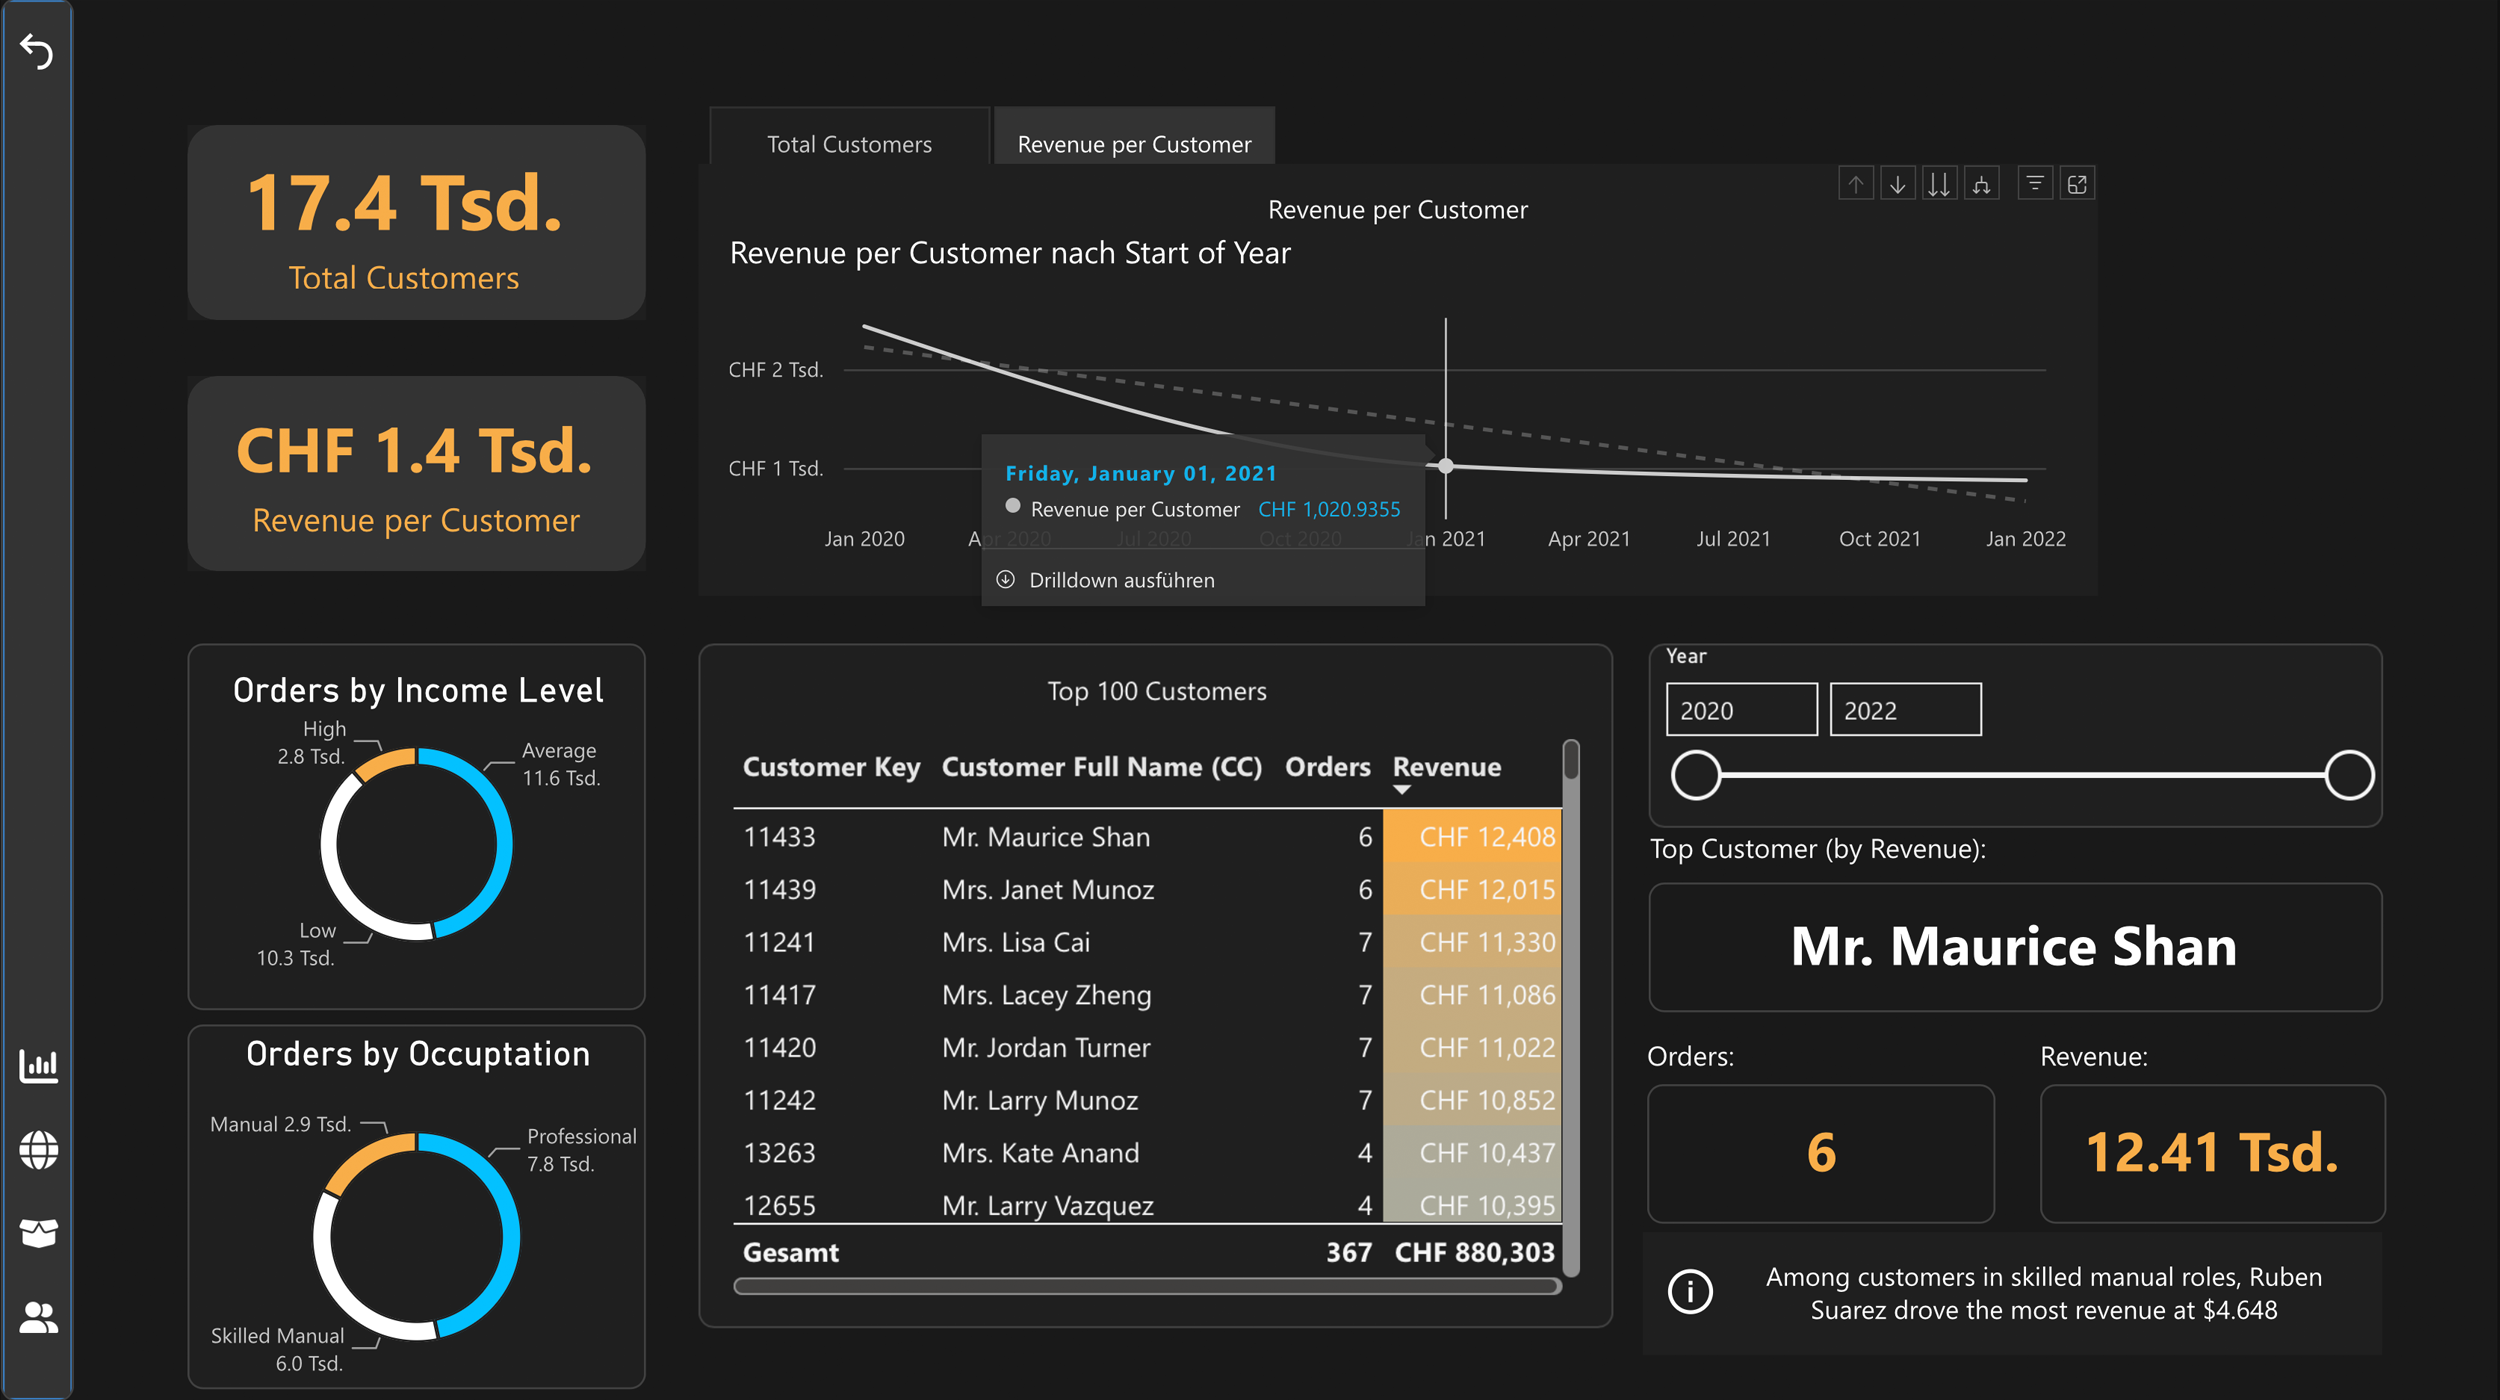

What the dashboard file says about the page in this screenshot:
{"tool":"powerbi","page":{"name":"Customer Detail","canvas":[1280,720],"ordinal":3},"visuals":[{"type":"shape","title":"1. Card","box":[95.7,64.9,235,100],"z":0},{"type":"actionButton","box":[4.7,527.8,29.6,39.8],"z":0,"group":"g1"},{"type":"shape","title":"2. Card","box":[95.7,193.6,235,100],"z":1000},{"type":"actionButton","box":[4.7,570.6,29.6,39.8],"z":1000,"group":"g1"},{"type":"card","fields":{"Values":["Measure Table.Total Customers"]},"box":[106,65,204,100],"z":2000},{"type":"actionButton","box":[4.7,613.5,29.6,39.8],"z":2000,"group":"g1"},{"type":"card","fields":{"Values":["Measure Table.Average Revenue per Customer"]},"box":[95.7,179.7,235,126.6],"z":3000},{"type":"actionButton","box":[4.7,656.3,29.6,39.8],"z":3000,"group":"g1"},{"type":"lineChart","fields":{"Category":["Calendar Lookup.Date Hierarchy.Start of Year","Calendar Lookup.Date Hierarchy.Start of Month","Calendar Lookup.Date Hierarchy.Start of Week","Calendar Lookup.Date Hierarchy.Date"],"Y":["Measure Table.Average Revenue per Customer"]},"box":[357.5,85,717.5,221.2],"z":4000},{"type":"donutChart","title":"Orders by Income Level","fields":{"Category":["Customer Lookup.Income Level"],"Y":["Measure Table.Total Orders"]},"box":[95.7,330.8,235,188.2],"z":5000},{"type":"donutChart","title":"Orders by Occuptation","fields":{"Category":["Customer Lookup.Occupation"],"Y":["Measure Table.Total Orders"]},"box":[95.7,526.4,235,187.2],"z":6000},{"type":"tableEx","title":"Top 100 Customers","fields":{"Values":["Customer Lookup.CustomerKey","Customer Lookup.Customer Full Name (CC)","Measure Table.Total Orders","Measure Table.Total Revenue"]},"box":[358,331,469,351],"z":7000},{"type":"card","fields":{"Values":["Customer Lookup.Full Name (Customer Detail)"]},"box":[845,453.8,376.6,66.6],"z":8000},{"type":"card","fields":{"Values":["Measure Table.Total Orders (Customer Detail)"]},"box":[844.1,557.2,178.8,71.2],"z":9000},{"type":"card","fields":{"Values":["Measure Table.Total Revenue (Customer Detail)"]},"box":[1045.3,557.2,177.5,71.2],"z":10000},{"type":"textbox","box":[844.1,532,178.8,33.8],"z":11000},{"type":"textbox","box":[1045.3,532,178.8,33.8],"z":12000},{"type":"textbox","box":[846,426,178.8,33.8],"z":13000},{"type":"slicer","fields":{"Values":["Calendar Lookup.Year"]},"box":[845.1,331,376.5,94.4],"z":14000},{"type":"actionButton","box":[842,633,379,63],"z":15000},{"type":"shape","title":"Left Nav Background","box":[0,0,37.7,719.7],"z":16000},{"type":"actionButton","box":[2.3,12.5,31.8,29.6],"z":18000},{"type":"slicer","fields":{"Values":["Customer Metric Selection.Customer Metric Selection"]},"box":[342.5,53.8,330,41.2],"z":19001},{"type":"group","id":"g1","title":"Nav Buttons","box":[4.7,527.8,29.6,168.3],"z":19002}]}

Visuals, with their boxes on the page's 1280x720 design canvas (x1, y1, x2, y2). These are canvas units, not pixel positions in the 2500x1400 screenshot, which may show the page scaled, cropped or inside an application window:
"1. Card" shape: {"left": 96, "top": 65, "right": 331, "bottom": 165}
actionButton: {"left": 5, "top": 528, "right": 34, "bottom": 568}
"2. Card" shape: {"left": 96, "top": 194, "right": 331, "bottom": 294}
actionButton: {"left": 5, "top": 571, "right": 34, "bottom": 610}
card - Measure Table.Total Customers: {"left": 106, "top": 65, "right": 310, "bottom": 165}
actionButton: {"left": 5, "top": 614, "right": 34, "bottom": 653}
card - Measure Table.Average Revenue per Customer: {"left": 96, "top": 180, "right": 331, "bottom": 306}
actionButton: {"left": 5, "top": 656, "right": 34, "bottom": 696}
lineChart - Calendar Lookup.Date Hierarchy.Start of Year x Calendar Lookup.Date Hierarchy.Start of Month: {"left": 358, "top": 85, "right": 1075, "bottom": 306}
"Orders by Income Level" donutChart: {"left": 96, "top": 331, "right": 331, "bottom": 519}
"Orders by Occuptation" donutChart: {"left": 96, "top": 526, "right": 331, "bottom": 714}
"Top 100 Customers" tableEx: {"left": 358, "top": 331, "right": 827, "bottom": 682}
card - Customer Lookup.Full Name (Customer Detail): {"left": 845, "top": 454, "right": 1222, "bottom": 520}
card - Measure Table.Total Orders (Customer Detail): {"left": 844, "top": 557, "right": 1023, "bottom": 628}
card - Measure Table.Total Revenue (Customer Detail): {"left": 1045, "top": 557, "right": 1223, "bottom": 628}
textbox: {"left": 844, "top": 532, "right": 1023, "bottom": 566}
textbox: {"left": 1045, "top": 532, "right": 1224, "bottom": 566}
textbox: {"left": 846, "top": 426, "right": 1025, "bottom": 460}
slicer - Calendar Lookup.Year: {"left": 845, "top": 331, "right": 1222, "bottom": 425}
actionButton: {"left": 842, "top": 633, "right": 1221, "bottom": 696}
"Left Nav Background" shape: {"left": 0, "top": 0, "right": 38, "bottom": 720}
actionButton: {"left": 2, "top": 12, "right": 34, "bottom": 42}
slicer - Customer Metric Selection.Customer Metric Selection: {"left": 342, "top": 54, "right": 672, "bottom": 95}
"Nav Buttons" group: {"left": 5, "top": 528, "right": 34, "bottom": 696}
